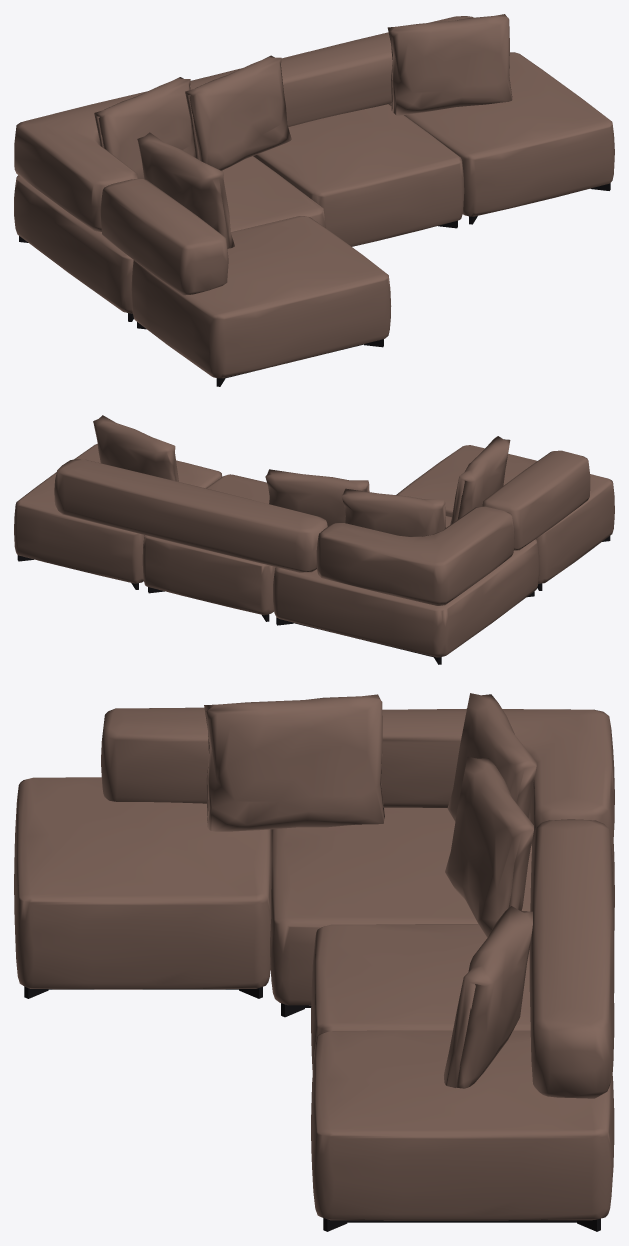
File: Furniture_Sofas-Armchairs_Fritz-Hansen_Alphabet-SofaT-Series-PL300-3.fbx
The picture shows the model from 3 angles, top to bottom: view 1: azimuth 30°, elevation 25°; view 2: azimuth 150°, elevation 25°; view 3: azimuth 270°, elevation 25°; orthographic projection. The views are drawn at different scales.
Visible parts, largest first — view 1: L_8cf35c48_3239_4f79_9a22_60aa4dd015a3_I20, L_261ee8a2_78b9_47fb_a6fe_fc62199f7588_I10, L_594b06c4_63f0_485b_8664_5ccdcf2e993d_I14, L_efd06f64_41bd_460b_8718_c4c33e4c71d6_I31, L_0046bf21_b53f_4bab_b80b_8ea3cc8280a4_I1, L_dd7c1530_8edc_4b20_8405_1316ed271719_I28, L_221fb735_03ea_4fa2_a80d_ea1f8b97598d_I7, L_acc984e9_0675_4432_9851_a54c7ba42bc2_I22, L_2614d5d7_c631_4aa6_94bc_edb34c78e4ee_I9, L_537c408a_1556_44a0_be7a_a182e75f59e9_I13, L_029ab708_6cad_4b00_af2a_f2933ccbcbb8_I3; view 2: L_2614d5d7_c631_4aa6_94bc_edb34c78e4ee_I9, L_efd06f64_41bd_460b_8718_c4c33e4c71d6_I31, L_221fb735_03ea_4fa2_a80d_ea1f8b97598d_I7, L_594b06c4_63f0_485b_8664_5ccdcf2e993d_I14, L_261ee8a2_78b9_47fb_a6fe_fc62199f7588_I10, L_8cf35c48_3239_4f79_9a22_60aa4dd015a3_I20, L_dd7c1530_8edc_4b20_8405_1316ed271719_I28, L_537c408a_1556_44a0_be7a_a182e75f59e9_I13, L_acc984e9_0675_4432_9851_a54c7ba42bc2_I22, L_0046bf21_b53f_4bab_b80b_8ea3cc8280a4_I1, L_029ab708_6cad_4b00_af2a_f2933ccbcbb8_I3; view 3: L_594b06c4_63f0_485b_8664_5ccdcf2e993d_I14, L_8cf35c48_3239_4f79_9a22_60aa4dd015a3_I20, L_efd06f64_41bd_460b_8718_c4c33e4c71d6_I31, L_029ab708_6cad_4b00_af2a_f2933ccbcbb8_I3, L_2614d5d7_c631_4aa6_94bc_edb34c78e4ee_I9, L_221fb735_03ea_4fa2_a80d_ea1f8b97598d_I7, L_261ee8a2_78b9_47fb_a6fe_fc62199f7588_I10, L_acc984e9_0675_4432_9851_a54c7ba42bc2_I22, L_dd7c1530_8edc_4b20_8405_1316ed271719_I28, L_0046bf21_b53f_4bab_b80b_8ea3cc8280a4_I1, L_537c408a_1556_44a0_be7a_a182e75f59e9_I13.
Boxes of the visible parts, left/top/right/bottom form: L_8cf35c48_3239_4f79_9a22_60aa4dd015a3_I20: left=131, top=216, right=391, bottom=378; L_261ee8a2_78b9_47fb_a6fe_fc62199f7588_I10: left=253, top=104, right=464, bottom=246; L_594b06c4_63f0_485b_8664_5ccdcf2e993d_I14: left=389, top=52, right=614, bottom=216; L_efd06f64_41bd_460b_8718_c4c33e4c71d6_I31: left=14, top=156, right=325, bottom=313; L_0046bf21_b53f_4bab_b80b_8ea3cc8280a4_I1: left=387, top=14, right=512, bottom=115; L_dd7c1530_8edc_4b20_8405_1316ed271719_I28: left=100, top=179, right=228, bottom=295; L_221fb735_03ea_4fa2_a80d_ea1f8b97598d_I7: left=14, top=91, right=146, bottom=231; L_acc984e9_0675_4432_9851_a54c7ba42bc2_I22: left=185, top=55, right=291, bottom=170; L_2614d5d7_c631_4aa6_94bc_edb34c78e4ee_I9: left=190, top=16, right=473, bottom=126; L_537c408a_1556_44a0_be7a_a182e75f59e9_I13: left=94, top=77, right=195, bottom=178; L_029ab708_6cad_4b00_af2a_f2933ccbcbb8_I3: left=137, top=132, right=234, bottom=248; L_2614d5d7_c631_4aa6_94bc_edb34c78e4ee_I9: left=54, top=459, right=327, bottom=572; L_efd06f64_41bd_460b_8718_c4c33e4c71d6_I31: left=273, top=516, right=539, bottom=657; L_221fb735_03ea_4fa2_a80d_ea1f8b97598d_I7: left=316, top=506, right=514, bottom=605; L_594b06c4_63f0_485b_8664_5ccdcf2e993d_I14: left=14, top=444, right=222, bottom=583; L_261ee8a2_78b9_47fb_a6fe_fc62199f7588_I10: left=142, top=474, right=275, bottom=615; L_8cf35c48_3239_4f79_9a22_60aa4dd015a3_I20: left=396, top=445, right=614, bottom=583; L_dd7c1530_8edc_4b20_8405_1316ed271719_I28: left=482, top=450, right=590, bottom=550; L_537c408a_1556_44a0_be7a_a182e75f59e9_I13: left=341, top=488, right=445, bottom=536; L_acc984e9_0675_4432_9851_a54c7ba42bc2_I22: left=265, top=469, right=369, bottom=526; L_0046bf21_b53f_4bab_b80b_8ea3cc8280a4_I1: left=93, top=415, right=178, bottom=481; L_029ab708_6cad_4b00_af2a_f2933ccbcbb8_I3: left=450, top=436, right=510, bottom=524; L_594b06c4_63f0_485b_8664_5ccdcf2e993d_I14: left=311, top=1030, right=614, bottom=1220; L_8cf35c48_3239_4f79_9a22_60aa4dd015a3_I20: left=14, top=777, right=271, bottom=989; L_efd06f64_41bd_460b_8718_c4c33e4c71d6_I31: left=270, top=807, right=614, bottom=1005; L_029ab708_6cad_4b00_af2a_f2933ccbcbb8_I3: left=204, top=694, right=384, bottom=831; L_2614d5d7_c631_4aa6_94bc_edb34c78e4ee_I9: left=529, top=819, right=614, bottom=1098; L_221fb735_03ea_4fa2_a80d_ea1f8b97598d_I7: left=381, top=708, right=614, bottom=857; L_261ee8a2_78b9_47fb_a6fe_fc62199f7588_I10: left=311, top=924, right=614, bottom=1072; L_acc984e9_0675_4432_9851_a54c7ba42bc2_I22: left=445, top=756, right=533, bottom=937; L_dd7c1530_8edc_4b20_8405_1316ed271719_I28: left=101, top=707, right=208, bottom=803; L_0046bf21_b53f_4bab_b80b_8ea3cc8280a4_I1: left=444, top=906, right=532, bottom=1088; L_537c408a_1556_44a0_be7a_a182e75f59e9_I13: left=447, top=693, right=536, bottom=821.
Size of the model in its own units: 3012 by 2125 by 857.
